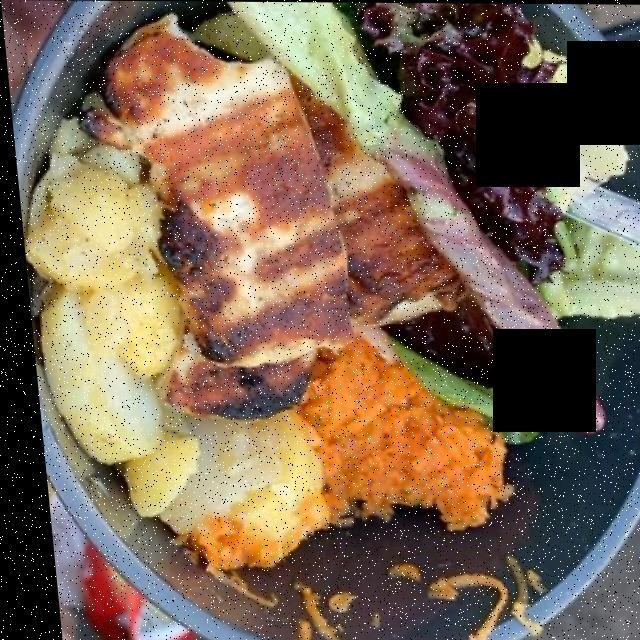carrot: (283, 342, 490, 528)
halloumi: (79, 21, 456, 423)
salad: (220, 2, 640, 442)
